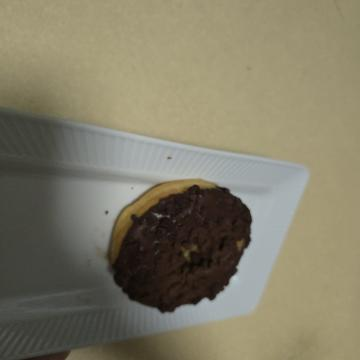doughnut: (168, 93, 322, 265)
